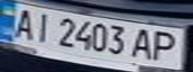0: (90, 20, 109, 54)
2: (51, 15, 78, 49)
3: (106, 24, 130, 57)
4: (72, 18, 93, 52)
A: (127, 26, 160, 61), (6, 7, 39, 39)
I: (27, 10, 57, 43)
P: (148, 28, 184, 63)
